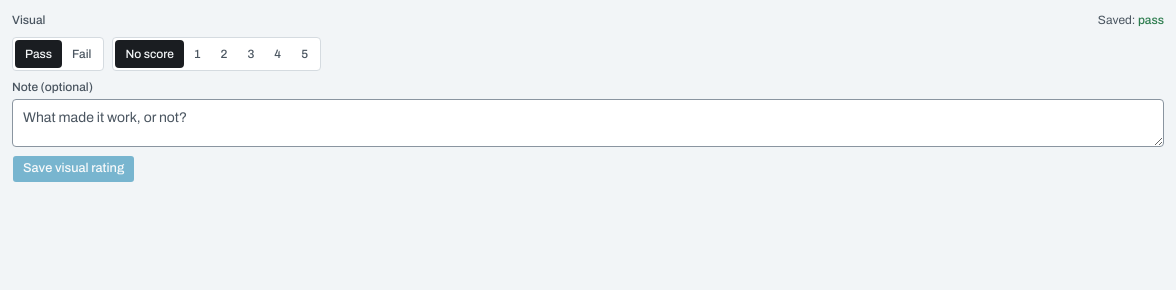
it: RatingControl › reverts to the previous rating and keeps the draft when the save fails
Click the button "Fail" at {"x": 82, "y": 54}, box [62, 40, 101, 68]
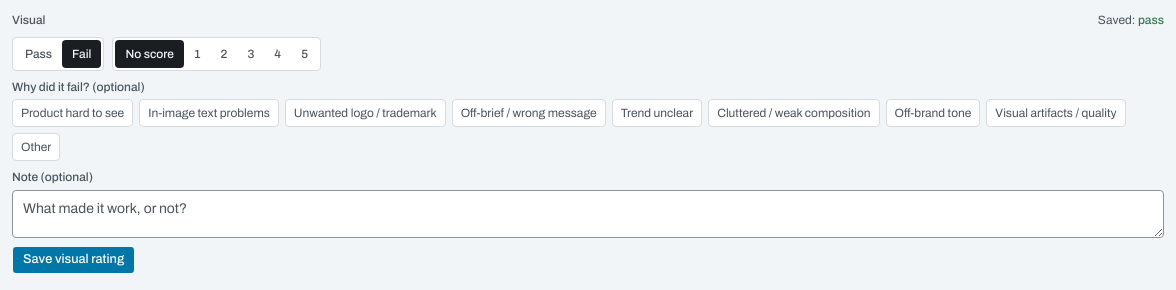
Click the button "Save visual rating" at {"x": 74, "y": 260}, box [12, 246, 135, 274]
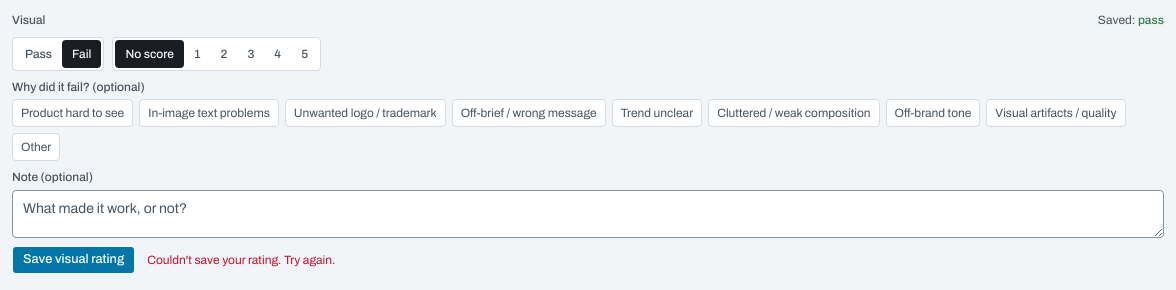
Expected: the button "Save visual rating" is enabled, [12, 246, 135, 274]
Expected: the text "Couldn't save your rating. Try again." is shown, [147, 252, 335, 266]
